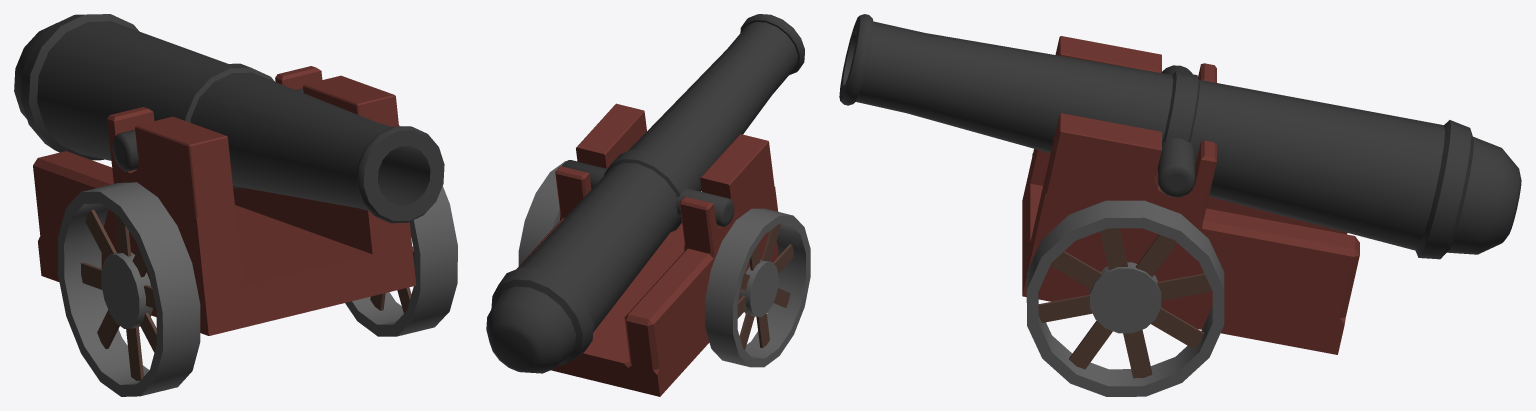
Rendered from cannon.fbx.
The picture shows the model from 3 angles, left to right: view 1: azimuth 30°, elevation 25°; view 2: azimuth 150°, elevation 25°; view 3: azimuth 270°, elevation 25°; orthographic projection. The views are drawn at different scales.
Visible parts, largest first — view 1: Circle, Plane.001, Circle.007, Circle.008, Plane.010, Circle.006, Circle.002, Plane.011; view 2: Circle, Plane.001, Circle.007, Circle.008, Plane.010, Circle.006, Circle.002; view 3: Circle, Plane.001, Circle.008, Plane.011, Circle.009, Circle.002.
Part boxes in pixels (<box>): Circle: <box>14,14,444,223</box>; Plane.001: <box>33,66,416,335</box>; Circle.007: <box>58,182,200,396</box>; Circle.008: <box>345,125,457,336</box>; Plane.010: <box>80,210,156,380</box>; Circle.006: <box>101,252,152,328</box>; Circle.002: <box>112,88,303,171</box>; Plane.011: <box>370,246,414,313</box>; Circle: <box>486,14,804,373</box>; Plane.001: <box>517,103,778,396</box>; Circle.007: <box>705,208,810,367</box>; Circle.008: <box>518,161,566,265</box>; Plane.010: <box>737,224,793,349</box>; Circle.006: <box>740,259,778,316</box>; Circle.002: <box>562,160,734,226</box>; Circle: <box>839,14,1521,259</box>; Plane.001: <box>1022,36,1359,354</box>; Circle.008: <box>1026,200,1224,396</box>; Plane.011: <box>1038,228,1212,378</box>; Circle.009: <box>1090,262,1161,333</box>; Circle.002: <box>1158,65,1194,197</box>.
Bounding box in the file's own units: 179 × 193 × 383.
